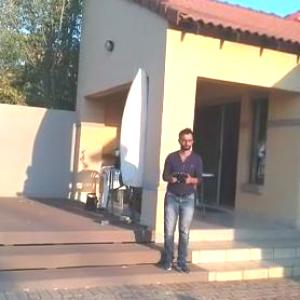follow: (157, 123, 207, 277)
